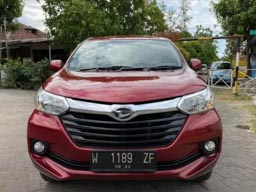plat: (89, 148, 158, 164)
